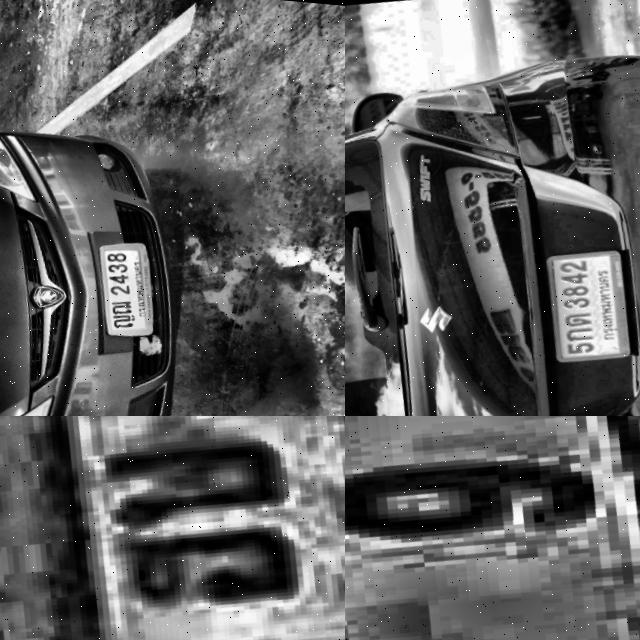license-plate: (0, 416, 345, 640), (345, 416, 640, 640), (540, 235, 640, 358), (96, 224, 169, 334)
